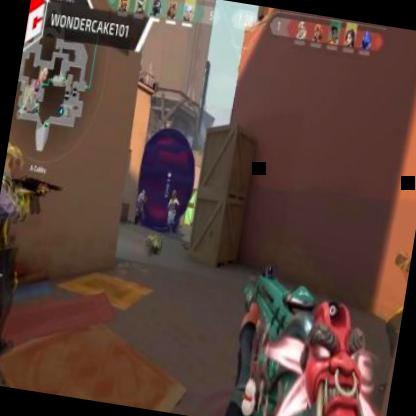enemy: (0, 139, 43, 385), (162, 190, 180, 237), (132, 186, 148, 226)
enemy_head: (2, 142, 18, 180), (171, 190, 176, 200), (140, 189, 144, 195)
